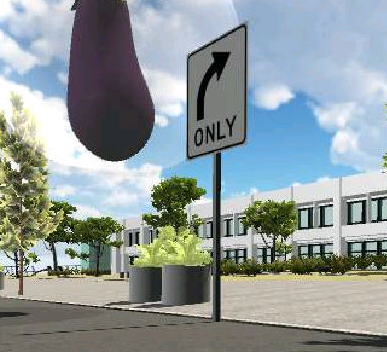arrow_right: (197, 50, 235, 120)
